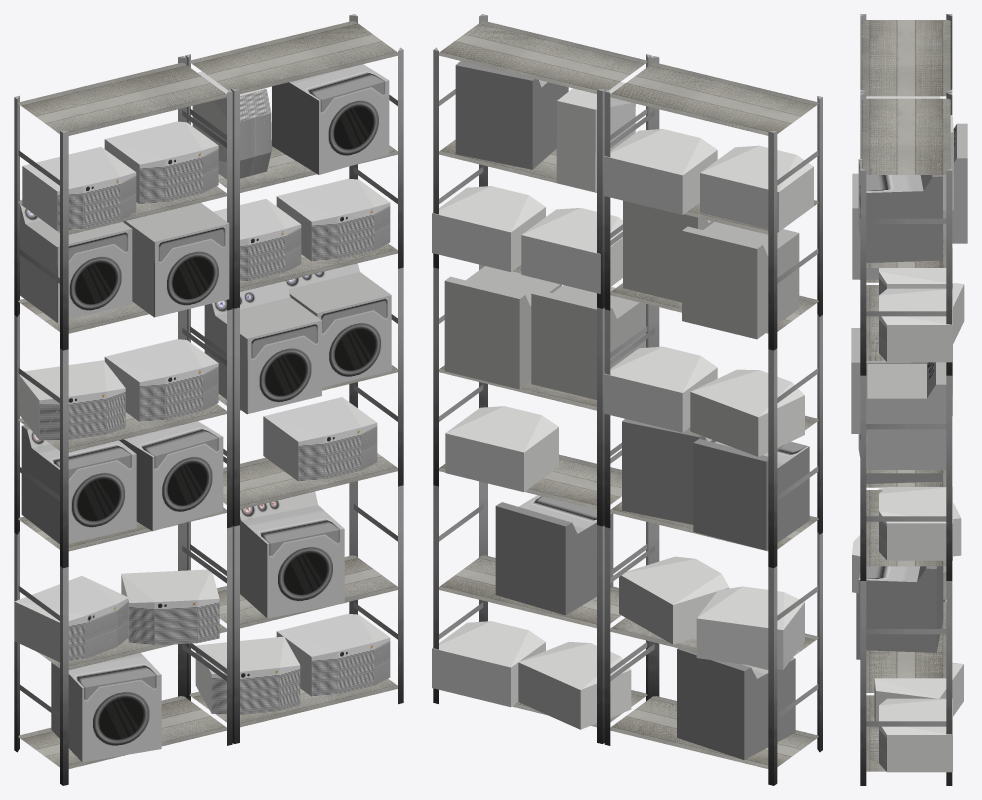
The model's file is Messy_Appliance_WallRack_TypeA.fbx.
3 renders of one model, left to right at view 1: azimuth 30°, elevation 25°; view 2: azimuth 150°, elevation 25°; view 3: azimuth 270°, elevation 25°, orthographic. The views are drawn at different scales.
Parts seen in each view (by area): view 1: Messy_Appliance_WallRack_TypeA; view 2: Messy_Appliance_WallRack_TypeA; view 3: Messy_Appliance_WallRack_TypeA.
Part boxes in pixels (x1,y1,x2,y2): Messy_Appliance_WallRack_TypeA: [14, 14, 403, 785]; Messy_Appliance_WallRack_TypeA: [432, 14, 822, 785]; Messy_Appliance_WallRack_TypeA: [851, 14, 967, 785].
Size of the model in its own units: 409 by 737 by 126.
